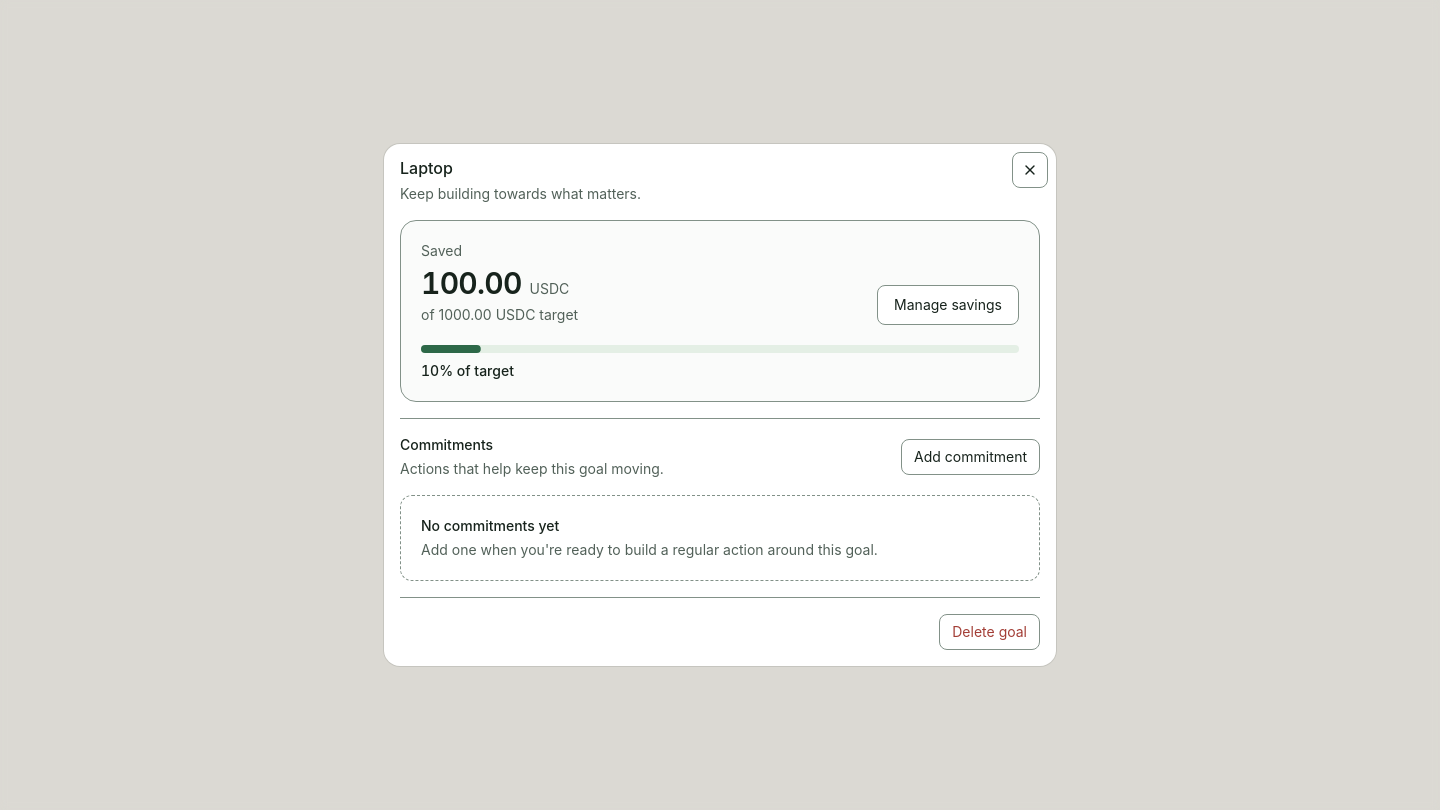
Test: GoalDetailsDialog › disables delete controls while deletion is in progress
Click the button "Delete goal".
click(990, 632)  # box [939,614,1040,650]
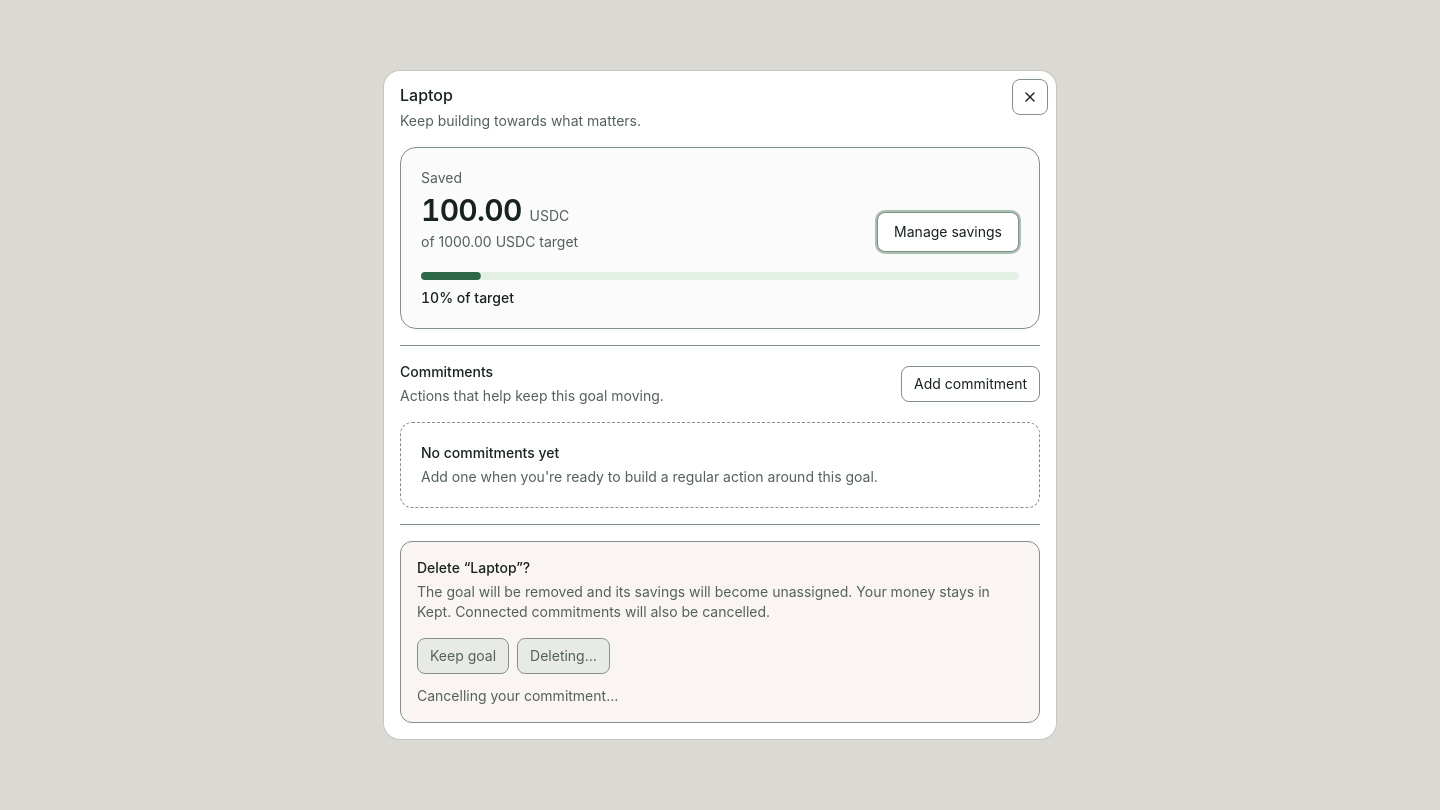
Expected: the button "Keep goal" is disabled, [417,638,509,674]
Expected: the button "Deleting…" is disabled, [517,638,610,674]
Expected: the text "Cancelling your commitment…" is shown, [417,687,618,704]
